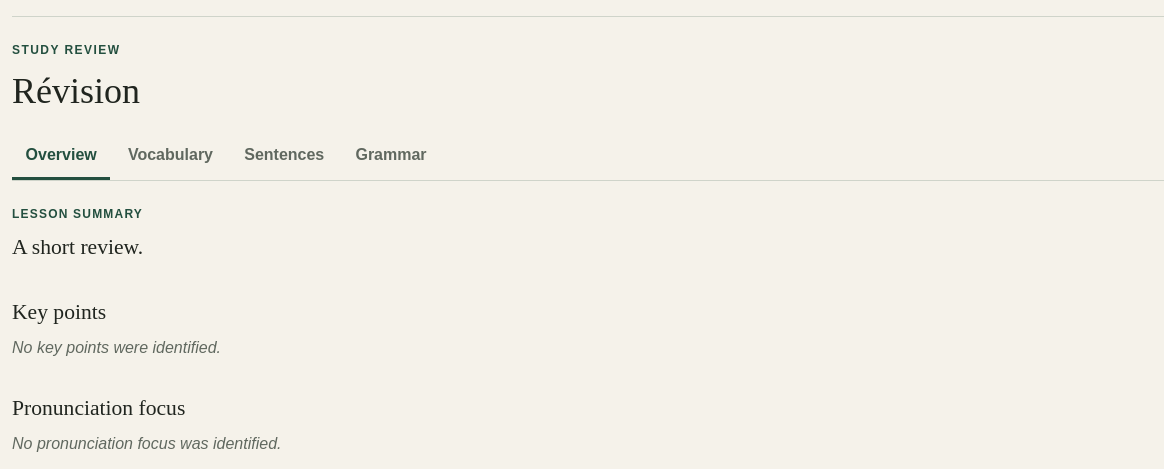
Test case: structured lesson study rendering › keeps every category available with clear empty states
Expected: the text "No key points were identified." is shown, [12,339,221,356]
Expected: the text "No pronunciation focus was identified." is shown, [12,435,282,452]
Click the tab "Vocabulary" at (170,156), box [114,132,227,180]
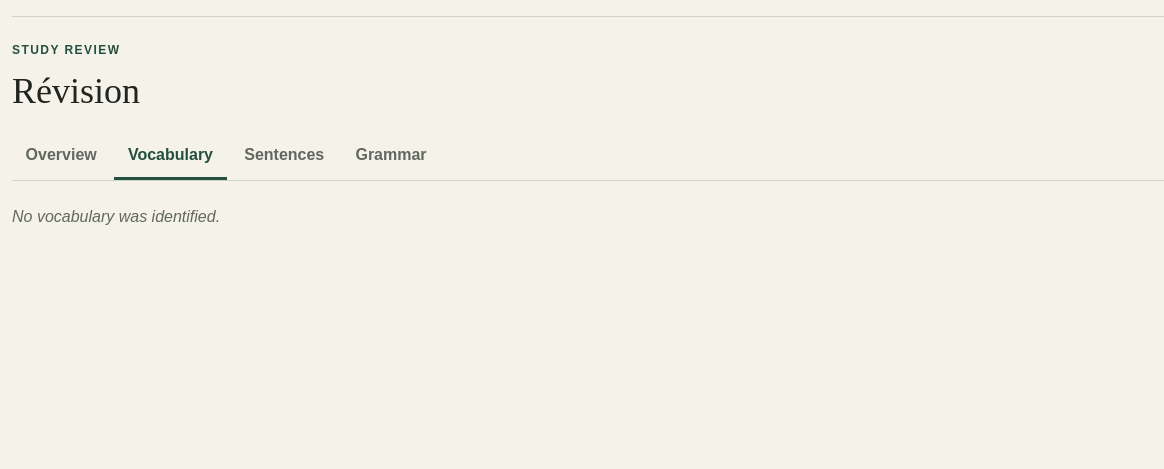
Now the text "No vocabulary was identified." is shown, box [12,208,220,225]
Click the tab "Sentences" at (284,156), box [231,132,338,180]
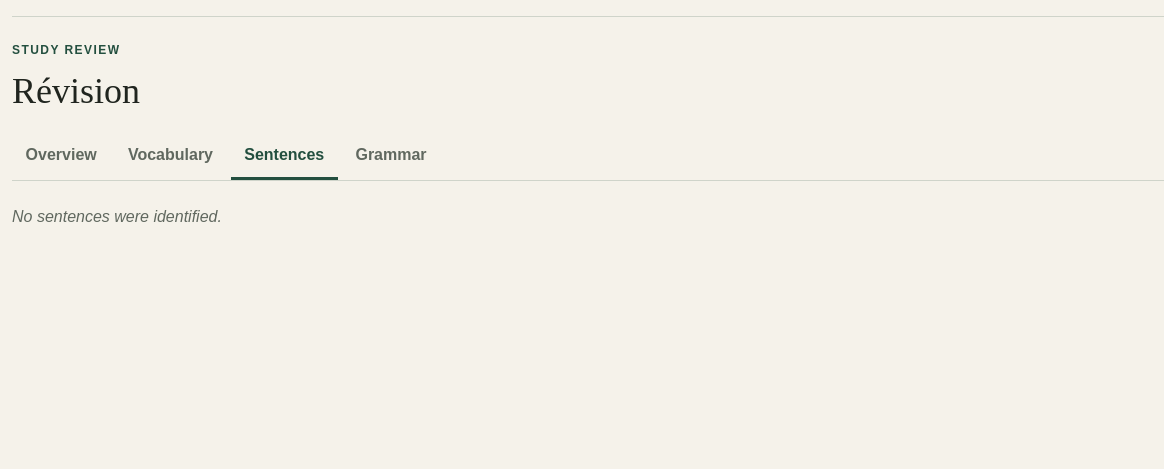
Now the text "No sentences were identified." is shown, box [12,208,222,225]
Click the tab "Grammar" at (391,156), box [342,132,440,180]
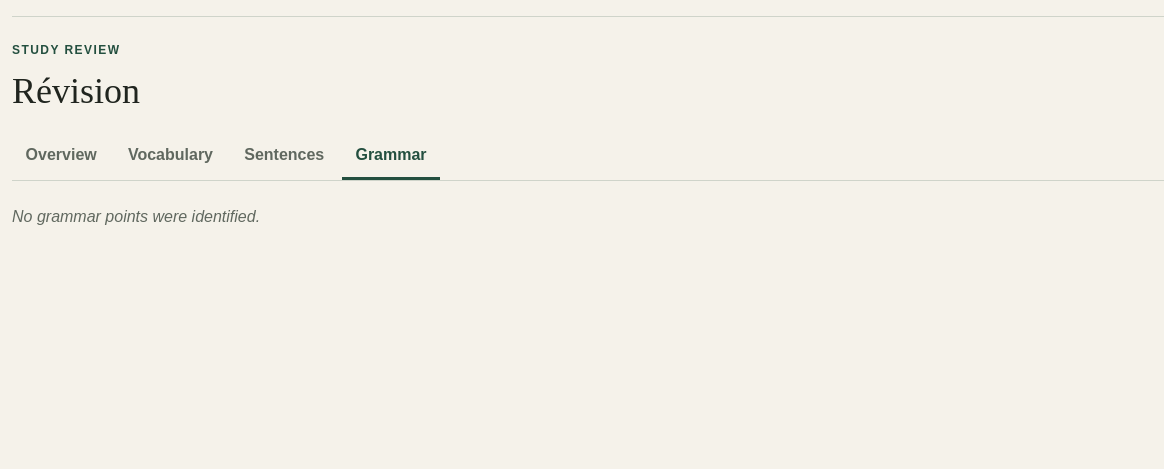
Now the text "No grammar points were identified." is shown, box [12,208,260,225]
